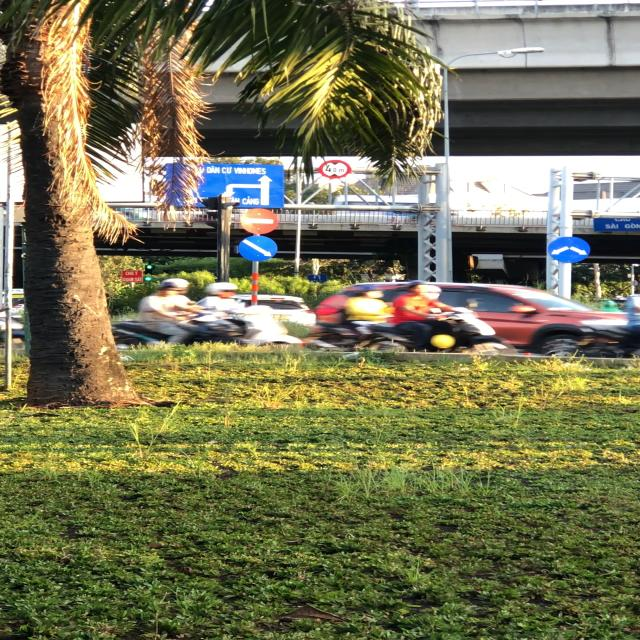Bien bao cam di nguoc chieu: (238, 207, 286, 235)
Bien bao han che chieu cao: (316, 158, 354, 180)
Bien bao huong phai di vong chuong ngai vat: (234, 235, 285, 264), (546, 235, 592, 264)
